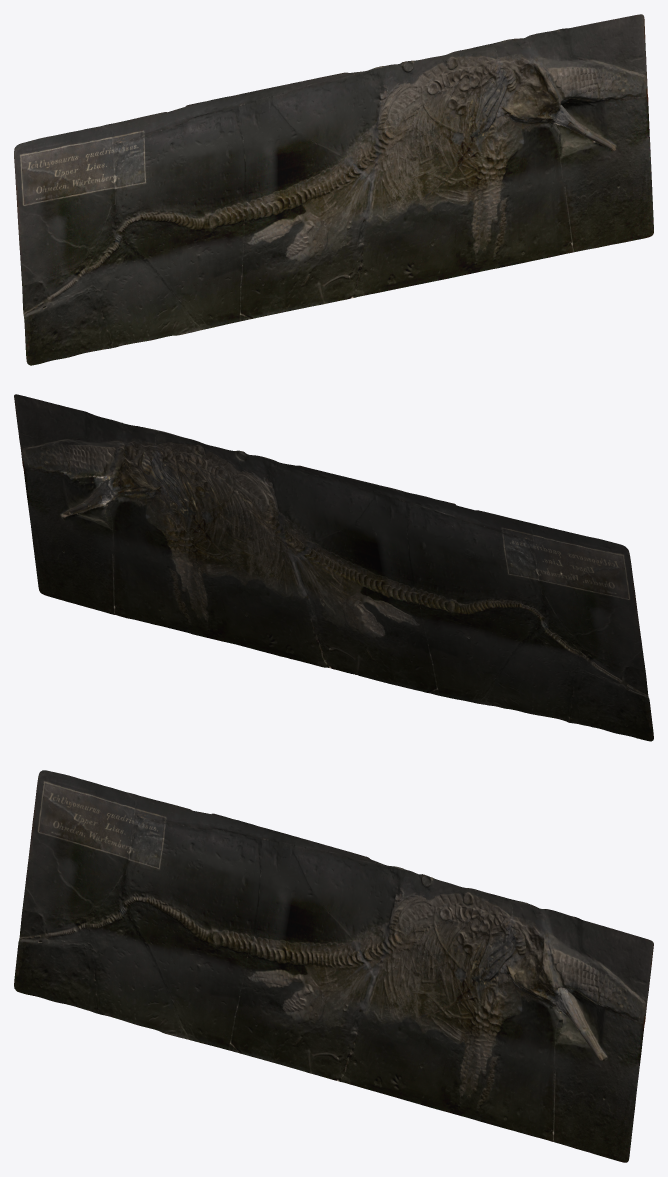
Rendered from ichthyosaur.glb.
3 renders of one model, top to bottom at view 1: azimuth 30°, elevation 25°; view 2: azimuth 150°, elevation 25°; view 3: azimuth 330°, elevation 25°, orthographic.
Parts seen in each view (by area): view 1: Object_2; view 2: Object_2; view 3: Object_2.
Part boxes in pixels (box(x1,y1,x2,y2)): Object_2: box(14, 14, 653, 365); Object_2: box(14, 394, 653, 741); Object_2: box(14, 770, 653, 1162).
Bounding box in the file's own units: 3381 × 1130 × 286.
1 material, 1 textured.
